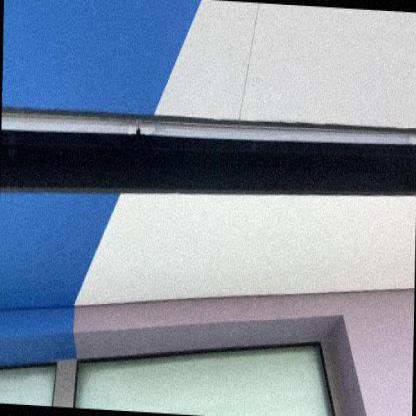light_off: (2, 65, 415, 186)
